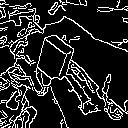cube: (31, 29, 79, 83)
